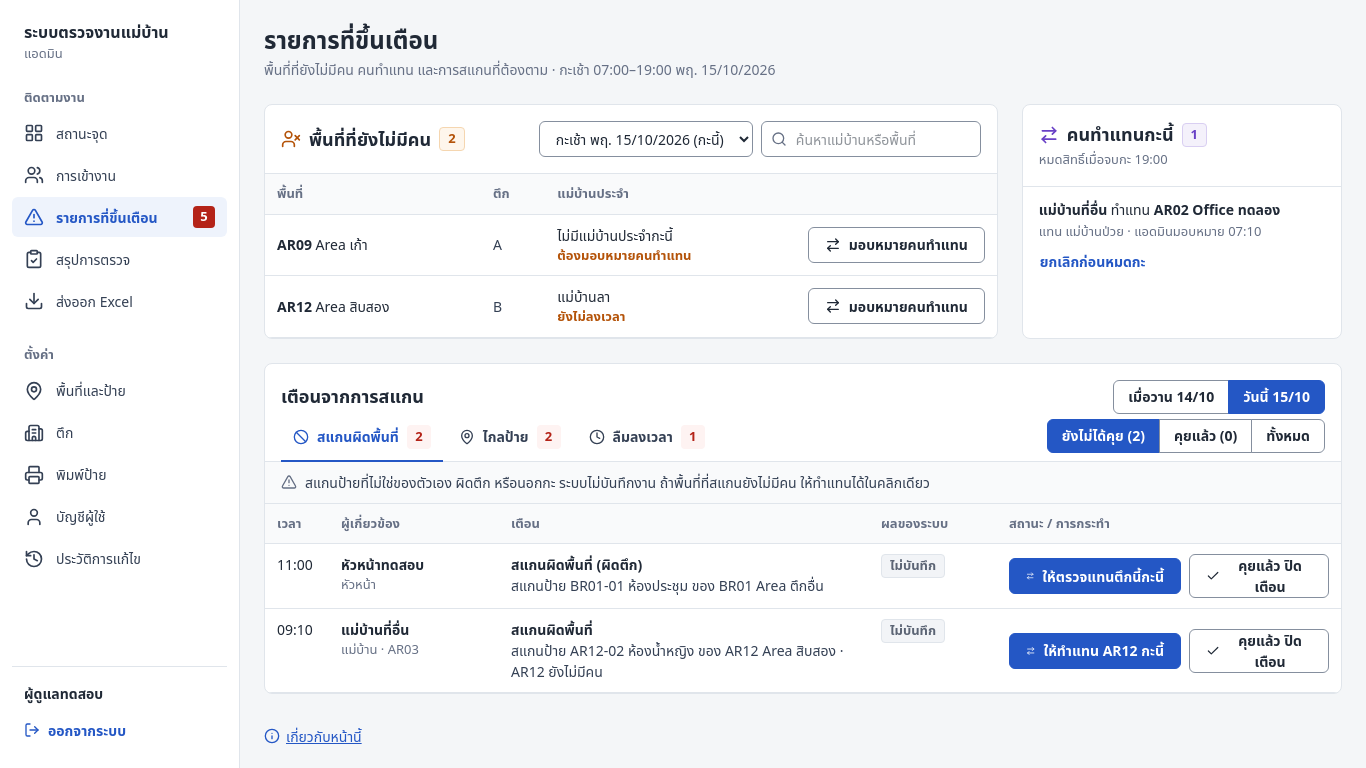
Test case: covers on the alert page (D3, facility-0041, 0048) › lists the Areas with nobody this shift; มอบหมายคนทำแทน offers the candidates, best first, and assigns one
The width and height of the screenshot is (1366, 768).
Click the button "มอบหมายคนทำแทน" in the row of "แม่บ้านลา" at (896, 306), box [808,288,985,324]
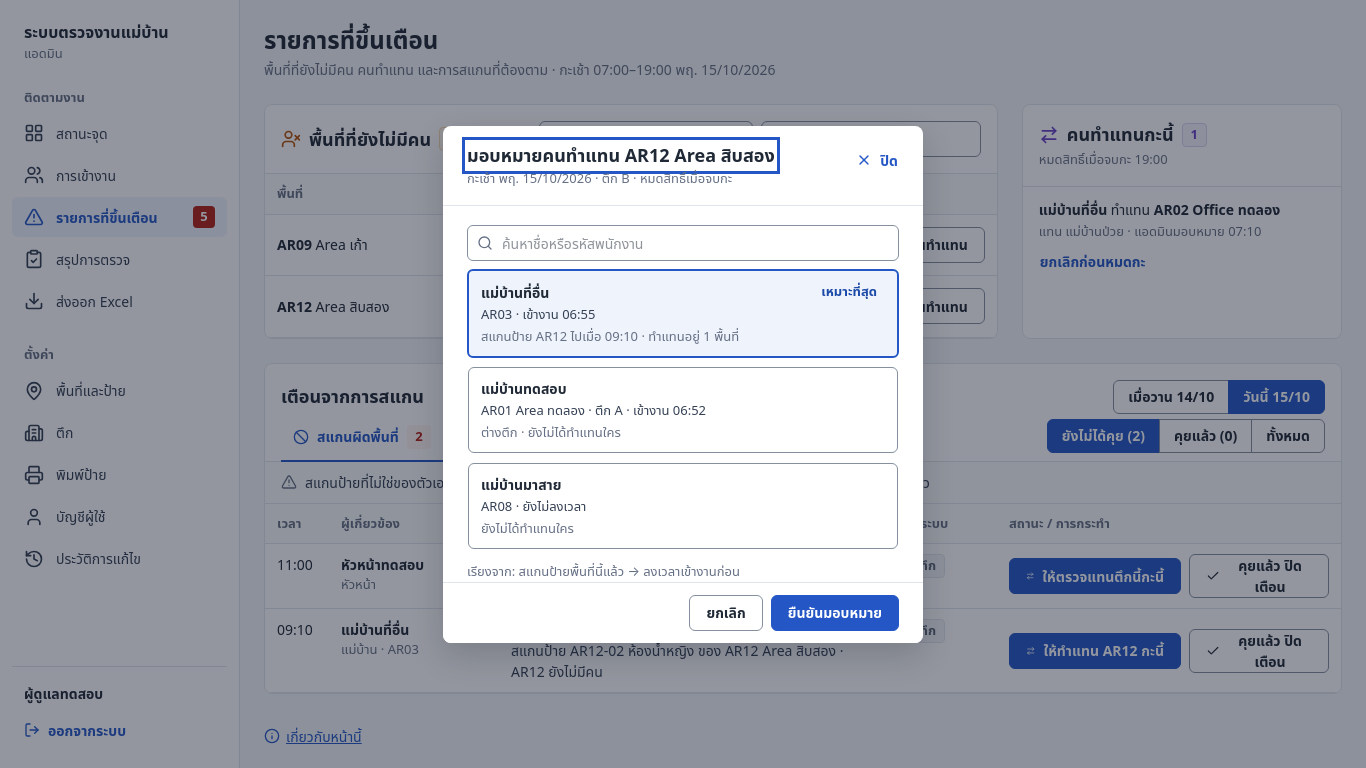
Check: the text "กะเช้า พฤ. 15/10/2026 · ตึก B · หมดสิทธิ์เมื่อจบกะ" is shown, box [467,168,775,188]
Check: the element named "แม่บ้านที่ทำแทน" is shown, box [467,269,899,550]
Check: the radio button named "แม่บ้านที่อื่นเหมาะที่สุด" is checked, box [467,269,899,358]
Click the radio button labelled "แม่บ้านทดสอบ" at (683, 410), box [468,367,898,453]
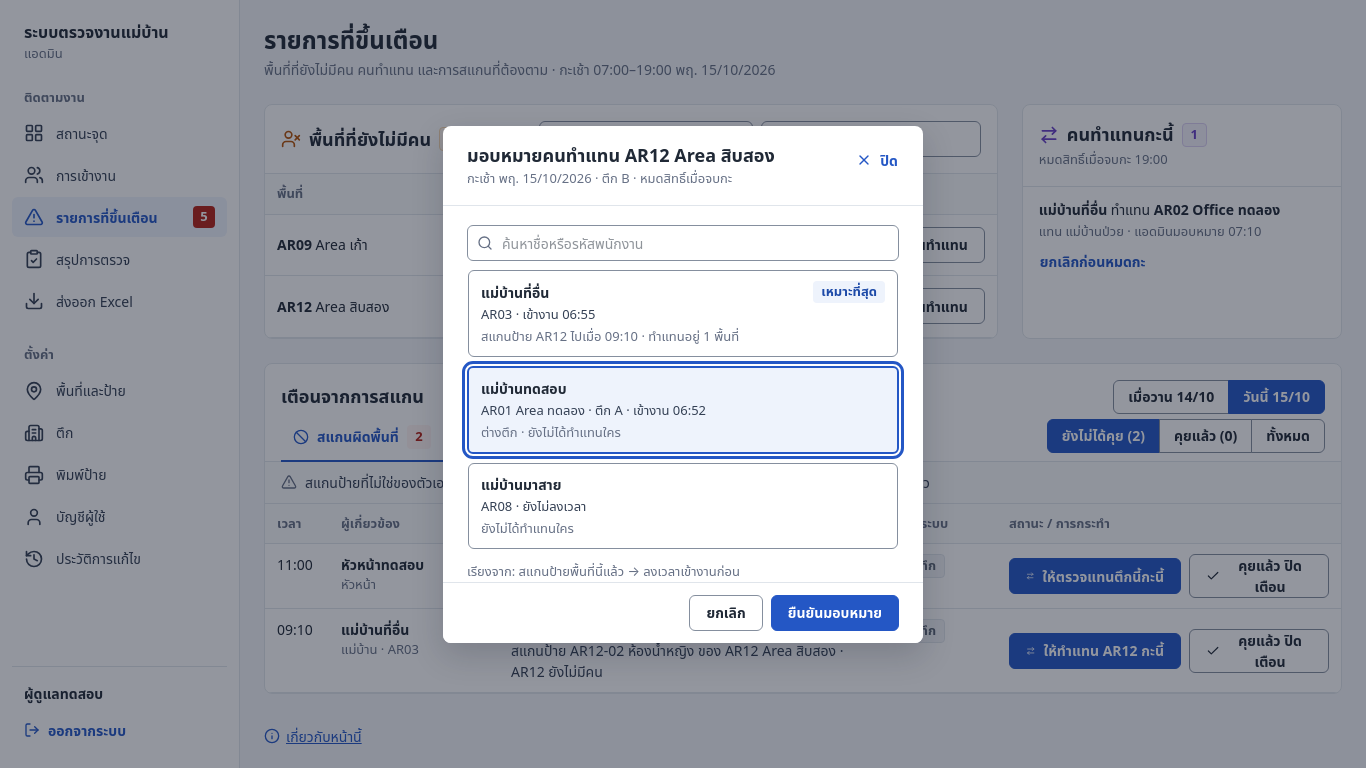
Click the button "ยืนยันมอบหมาย" at (835, 612), box [771,594,899,630]
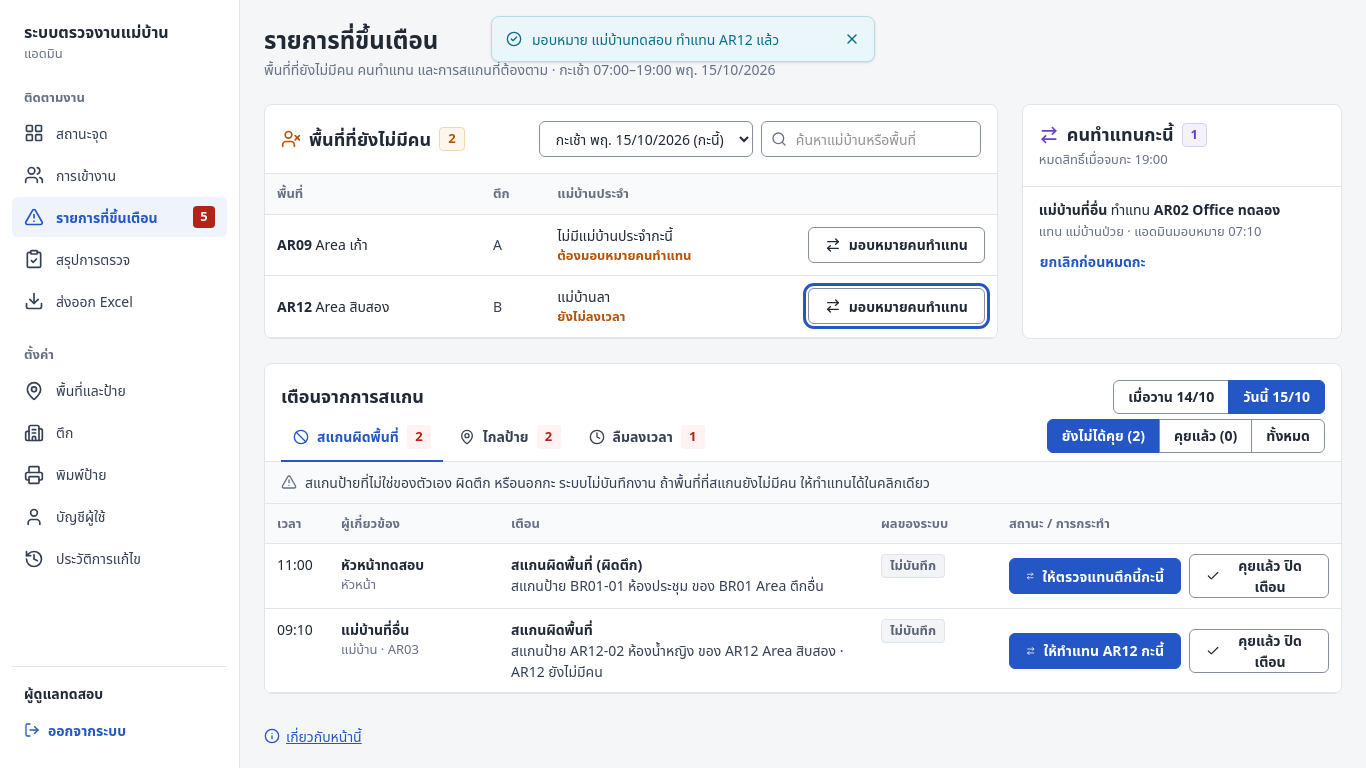
Check: the text "มอบหมาย แม่บ้านทดสอบ ทำแทน AR12 แล้ว" is shown, box [532,30,779,48]
